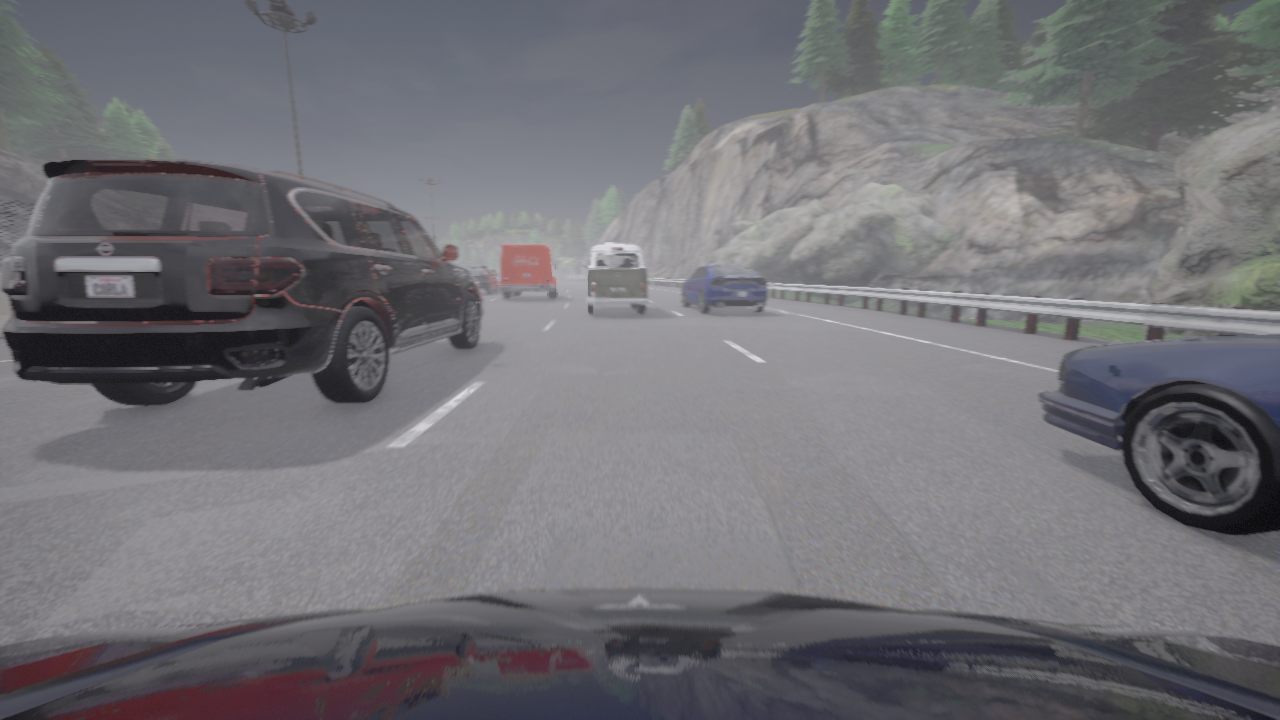cyclist: (0, 588, 1279, 719), (2, 159, 482, 405), (1037, 335, 1279, 535), (583, 243, 648, 314), (683, 262, 768, 313), (500, 245, 558, 298), (468, 266, 497, 293)
